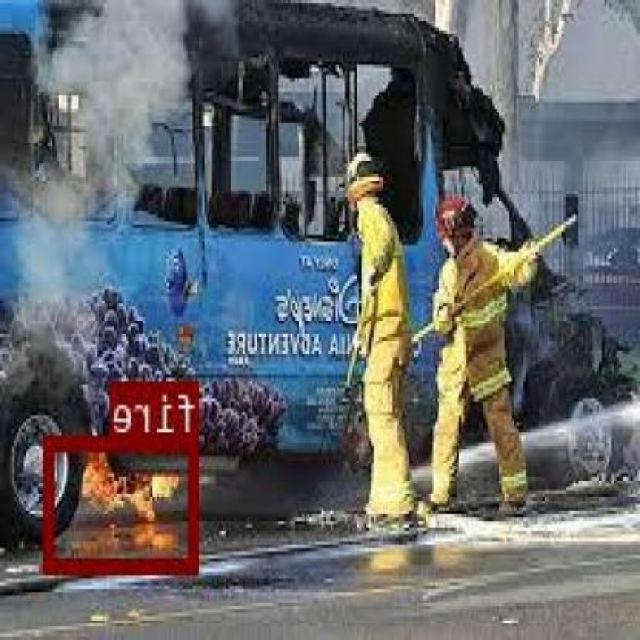Fire: (47, 433, 201, 570)
Smoke: (13, 10, 195, 323)
